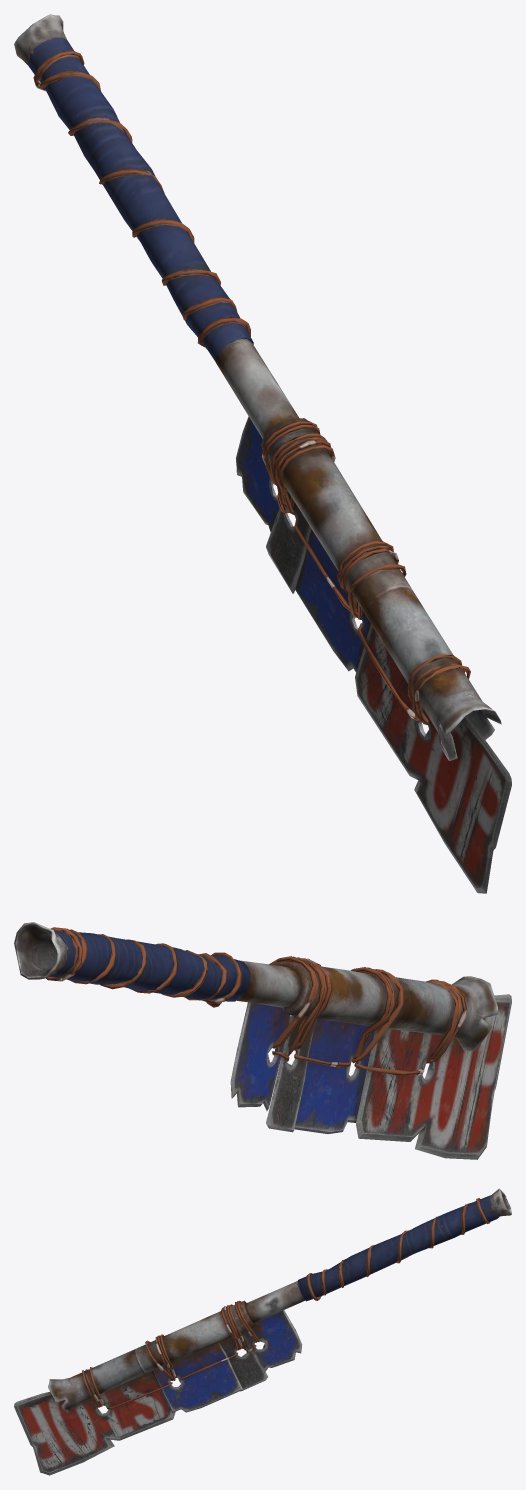
Rendered from 2handed_cleaver.worldmodel.glb.
3 renders of one model, top to bottom at view 1: azimuth 30°, elevation 25°; view 2: azimuth 150°, elevation 25°; view 3: azimuth 270°, elevation 25°, orthographic. The views are drawn at different scales.
Visible parts, largest first — view 1: Salvaged_Cleaver_LOD0; view 2: Salvaged_Cleaver_LOD0; view 3: Salvaged_Cleaver_LOD0.
Part boxes in pixels (x1,y1,x2,y2): Salvaged_Cleaver_LOD0: [14, 14, 511, 893]; Salvaged_Cleaver_LOD0: [14, 922, 511, 1159]; Salvaged_Cleaver_LOD0: [14, 1188, 511, 1475].
Bounding box in the file's own units: 0.0481 × 0.4518 × 0.7105.
Materials: 1 (1 with a texture image).
